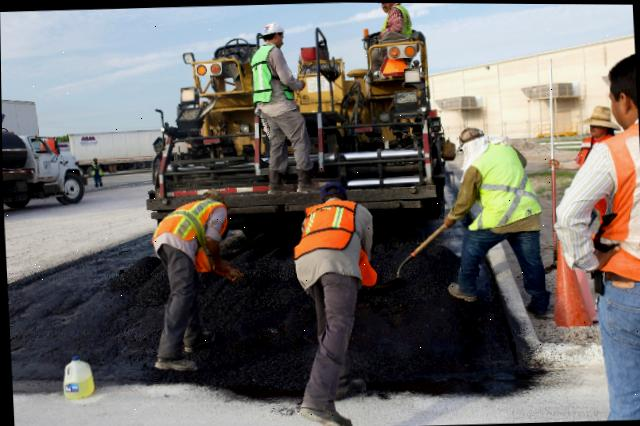helmet: (260, 15, 287, 38)
vest: (580, 104, 640, 282), (276, 196, 380, 288), (454, 137, 547, 237), (123, 195, 235, 257), (367, 7, 416, 79), (254, 43, 297, 87)
